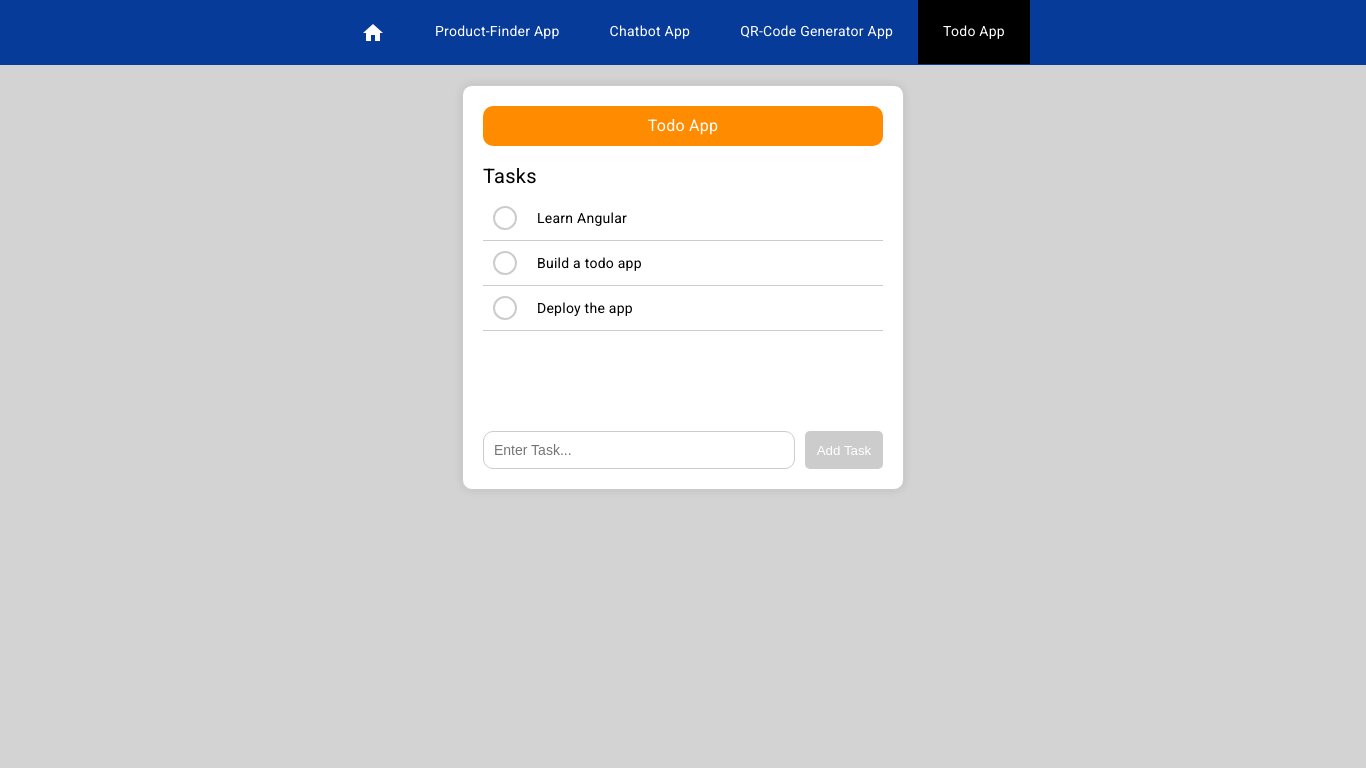
Test: todo-app › can enter a new task
Type "test" into the field with placeholder "Enter Task..." at x=639, y=450, box [483,431,795,469]
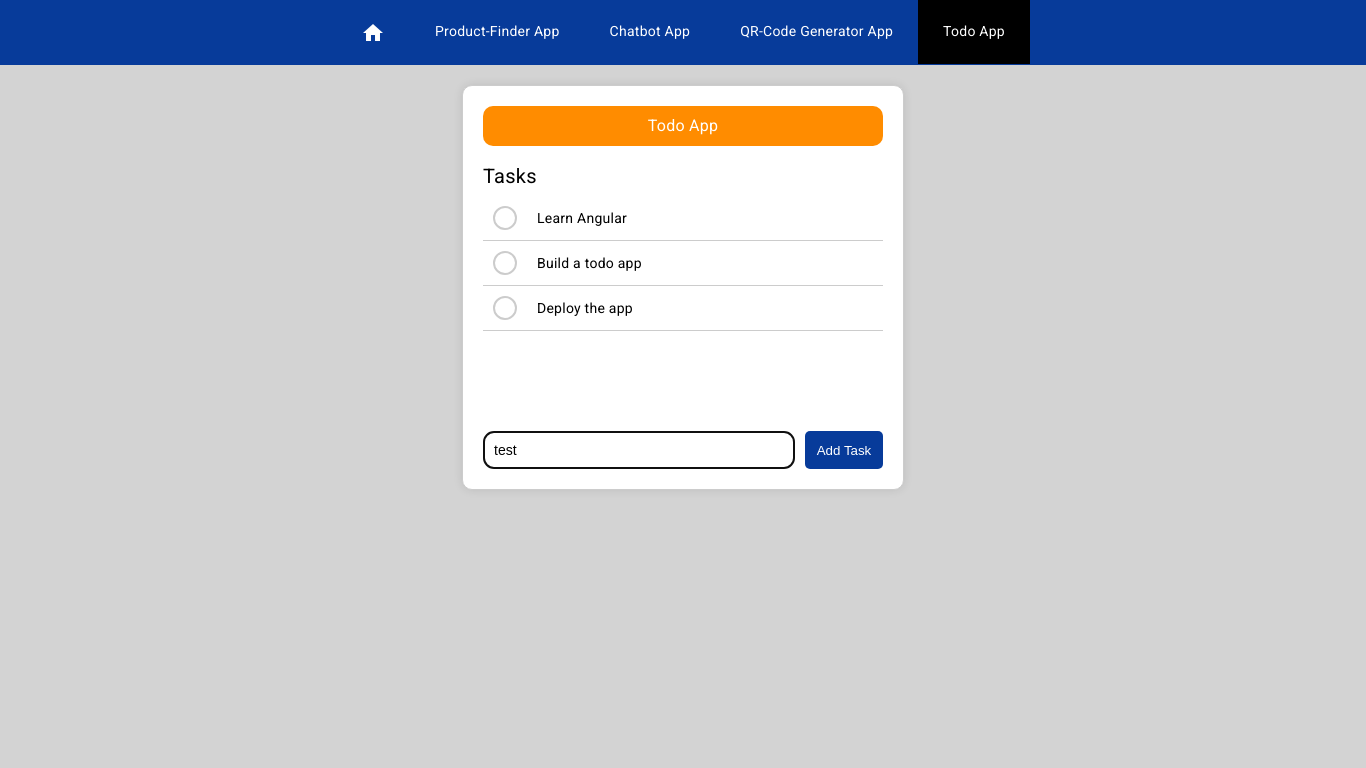
Click the button "Add Task" at x=844, y=450, box [805,431,883,469]
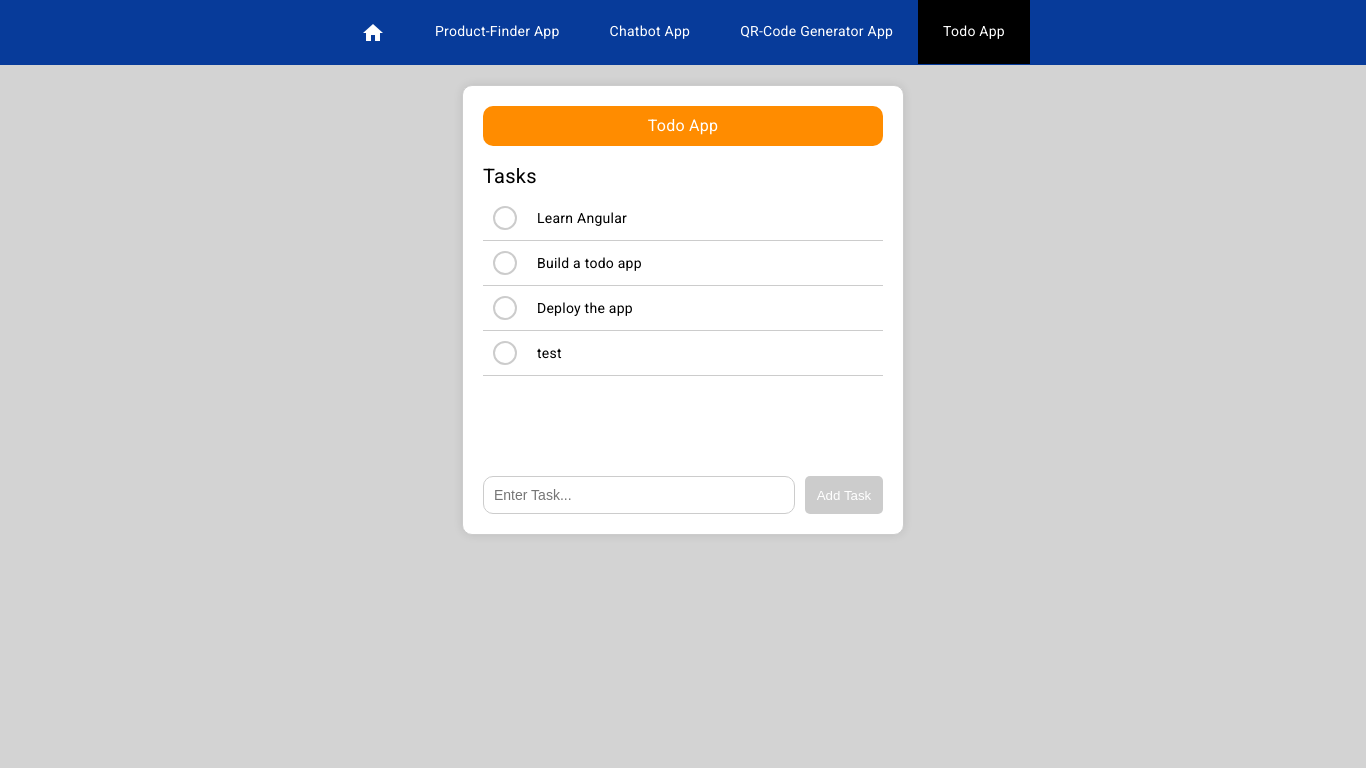
expect the element with class "todo-item" reads "test": met, box [483,331,883,376]
